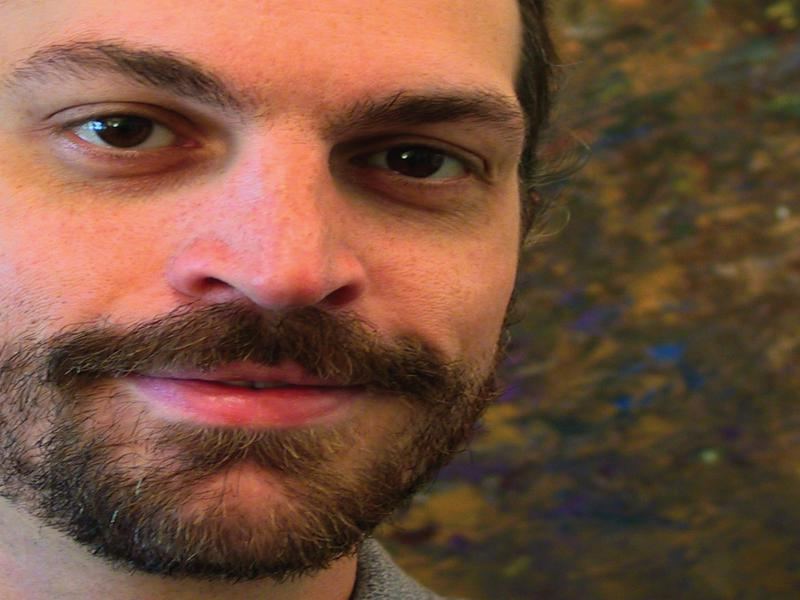person: (1, 1, 544, 600)
